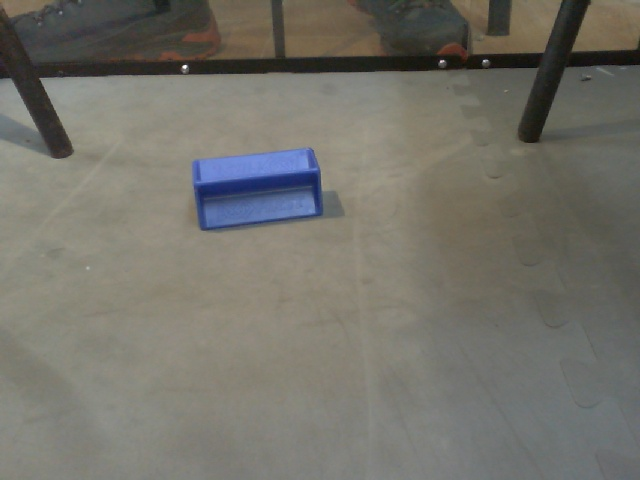BlueSample: (186, 141, 327, 233)
